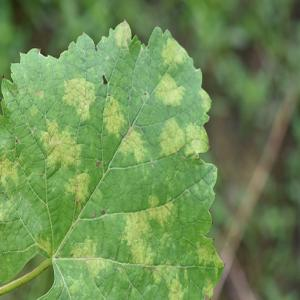Folha: (0, 18, 225, 299)
Fungo: (120, 198, 170, 272), (39, 119, 78, 171), (61, 76, 96, 121), (70, 237, 107, 275), (158, 116, 186, 157), (64, 170, 91, 209), (103, 94, 127, 137), (156, 72, 183, 109), (198, 241, 223, 277), (120, 127, 145, 162), (186, 124, 209, 158), (163, 35, 184, 69), (112, 19, 134, 51), (0, 156, 19, 190), (149, 263, 179, 283), (166, 275, 185, 300), (38, 236, 52, 255), (202, 280, 214, 300), (201, 88, 210, 111), (0, 204, 7, 222), (102, 74, 108, 84), (95, 160, 100, 168), (101, 208, 105, 216), (92, 210, 95, 218), (15, 136, 18, 144), (40, 173, 44, 177), (69, 253, 73, 257)
